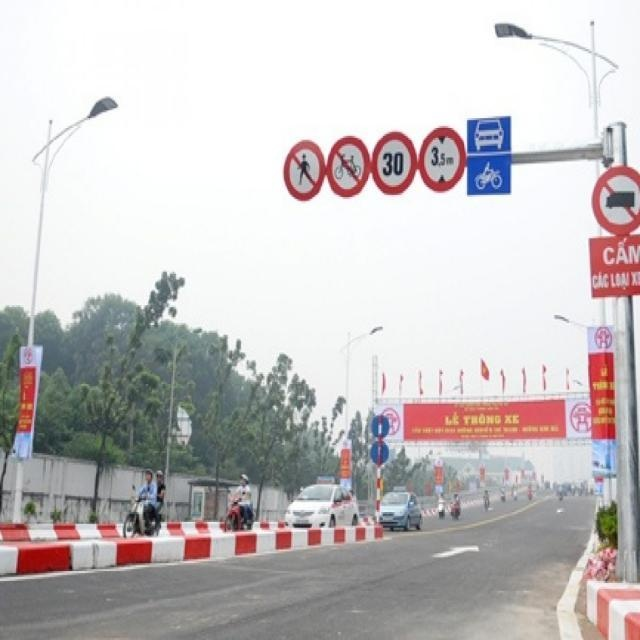bien_cam: (467, 111, 516, 196), (590, 162, 640, 235), (420, 124, 464, 191), (372, 127, 415, 194), (283, 136, 326, 202), (327, 133, 370, 198)
